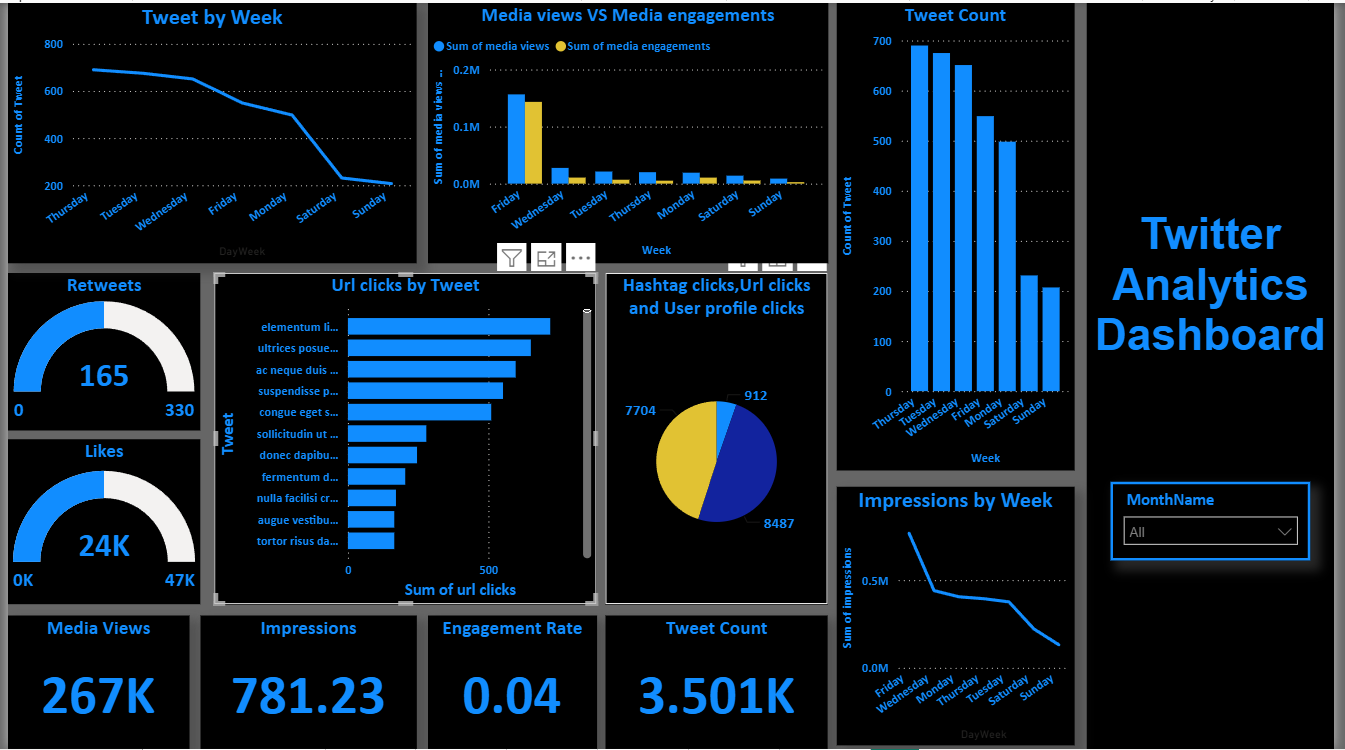

The dashboard page shown, as its layout file describes it:
{"tool":"powerbi","page":{"name":"Tweeter Dashboard","canvas":[1280,720],"ordinal":0},"visuals":[{"type":"textbox","box":[1041.2,0,238.9,720.2],"z":0},{"type":"cardVisual","title":"Media Views","fields":{"Data":["Sum(SocialMedia (1).media views)"]},"box":[0,591.2,174.9,129.1],"z":1000},{"type":"cardVisual","title":"Impressions","fields":{"Data":["Avg(SocialMedia (1).impressions)"]},"box":[185.8,591.2,208.7,129.1],"z":2000},{"type":"cardVisual","title":"Engagement Rate","fields":{"Data":["Avg(SocialMedia (1).engagement rate)"]},"box":[405.4,591.2,162.9,129.1],"z":3000},{"type":"cardVisual","title":"Tweet Count","fields":{"Data":["CountNonNull(SocialMedia (1).Tweet)"]},"box":[576.7,591.2,214.7,129.1],"z":4000},{"type":"gauge","title":"Likes","fields":{"Y":["Sum(SocialMedia (1).likes)"]},"box":[0,421,185.8,159.3],"z":5000},{"type":"gauge","title":"Retweets","fields":{"Y":["Max(SocialMedia (1).retweets)"]},"box":[0,260.6,185.8,152],"z":6000},{"type":"slicer","fields":{"Values":["SocialMedia (1).MonthName"]},"box":[1064.1,462.1,193,76],"z":7000},{"type":"lineChart","title":"Tweet by Week","fields":{"Category":["SocialMedia (1).DayWeek"],"Y":["CountNonNull(SocialMedia (1).Tweet)"]},"box":[0,0,394.5,250.9],"z":8000},{"type":"lineChart","title":"Impressions by Week","fields":{"Category":["SocialMedia (1).DayWeek"],"Y":["Sum(SocialMedia (1).impressions)"]},"box":[799.9,466.9,229.2,249.7],"z":9000},{"type":"clusteredBarChart","title":"Url clicks by Tweet","fields":{"Category":["SocialMedia (1).Tweet"],"Y":["Sum(SocialMedia (1).url clicks)"]},"box":[199.1,260.6,369.2,319.7],"z":10000},{"type":"pieChart","title":"Hashtag clicks,Url clicks and User profile clicks","fields":{"Y":["Sum(SocialMedia (1).hashtag clicks)","Sum(SocialMedia (1).url clicks)","Sum(SocialMedia (1).user profile clicks)"]},"box":[576.7,260.6,214.7,319.7],"z":11000},{"type":"clusteredColumnChart","title":"Media views VS Media engagements","fields":{"Category":["SocialMedia (1).DayWeek"],"Y":["Sum(SocialMedia (1).media views)","Sum(SocialMedia (1).media engagements)"]},"box":[405.4,0,386.1,250.9],"z":12000},{"type":"clusteredColumnChart","title":"Tweet Count","fields":{"Category":["SocialMedia (1).DayWeek"],"Y":["CountNonNull(SocialMedia (1).Tweet)"]},"box":[799.9,0,229.2,451.2],"z":13000}]}

Visuals, with their boxes in screenshot pixels (x1, y1, x2, y2), scaled from the page's 1280x720 canvas onto the 1345x750 screenshot:
textbox: pyautogui.locateOnScreen(1094, 0, 1344, 749)
"Media Views" cardVisual: pyautogui.locateOnScreen(0, 616, 184, 749)
"Impressions" cardVisual: pyautogui.locateOnScreen(195, 616, 415, 749)
"Engagement Rate" cardVisual: pyautogui.locateOnScreen(426, 616, 597, 749)
"Tweet Count" cardVisual: pyautogui.locateOnScreen(606, 616, 832, 749)
"Likes" gauge: pyautogui.locateOnScreen(0, 439, 195, 604)
"Retweets" gauge: pyautogui.locateOnScreen(0, 271, 195, 430)
slicer - SocialMedia (1).MonthName: pyautogui.locateOnScreen(1118, 481, 1321, 561)
"Tweet by Week" lineChart: pyautogui.locateOnScreen(0, 0, 415, 261)
"Impressions by Week" lineChart: pyautogui.locateOnScreen(841, 486, 1081, 746)
"Url clicks by Tweet" clusteredBarChart: pyautogui.locateOnScreen(209, 271, 597, 604)
"Hashtag clicks,Url clicks and User profile clicks" pieChart: pyautogui.locateOnScreen(606, 271, 832, 604)
"Media views VS Media engagements" clusteredColumnChart: pyautogui.locateOnScreen(426, 0, 832, 261)
"Tweet Count" clusteredColumnChart: pyautogui.locateOnScreen(841, 0, 1081, 470)
